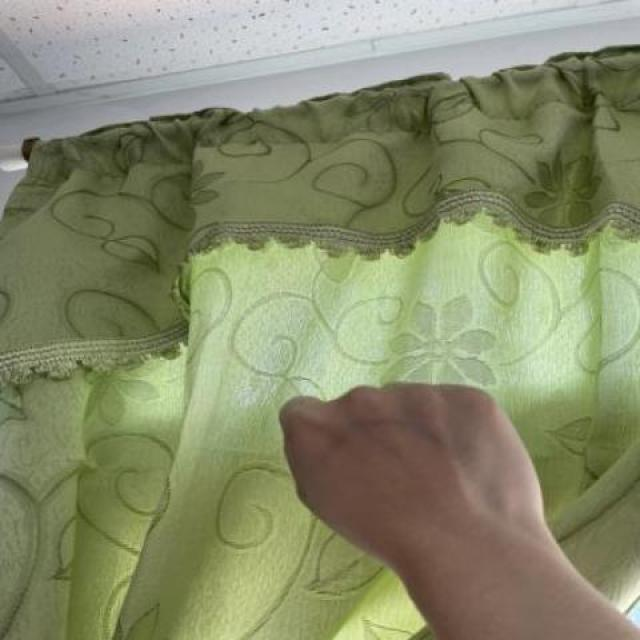Closed Hand: (276, 378, 548, 574)
